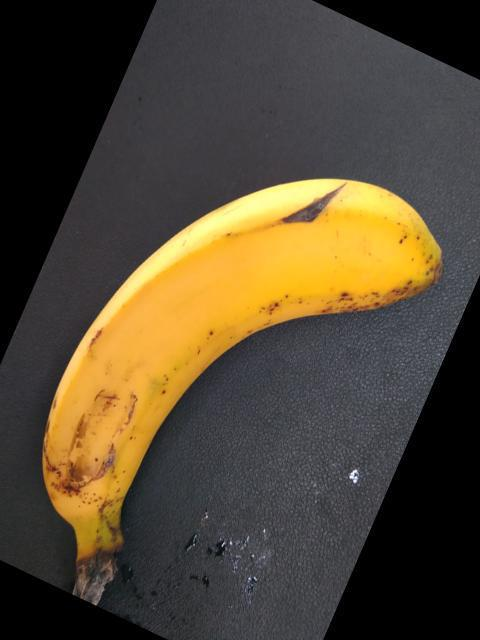ripe: (35, 161, 455, 639)
